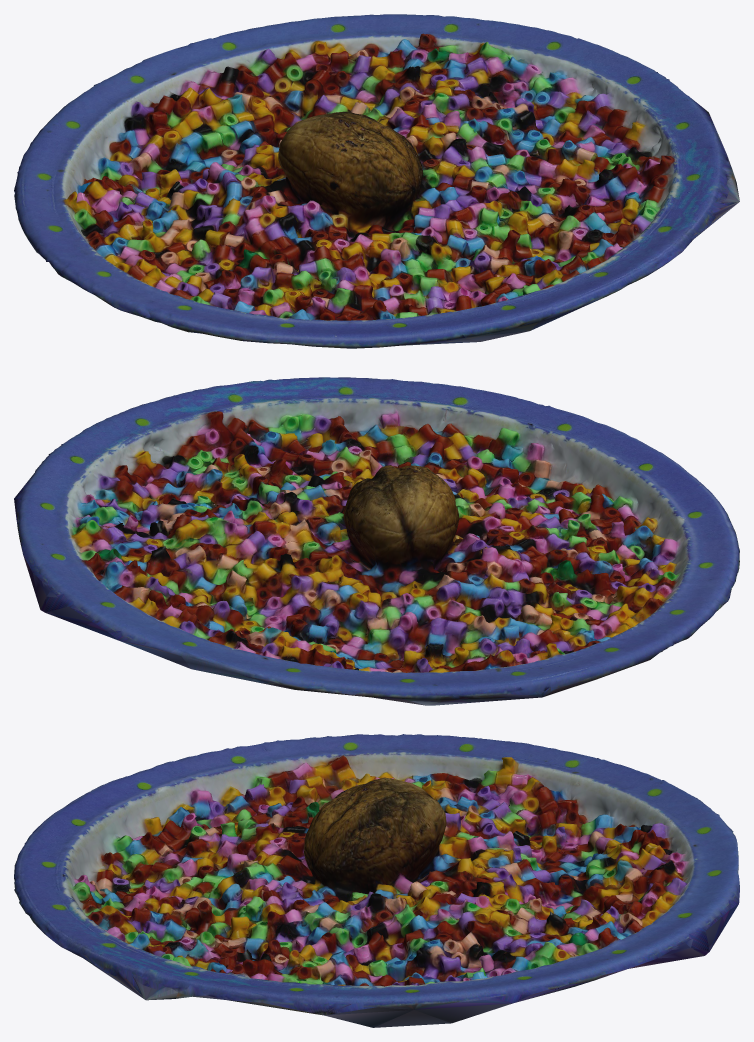
Rendered from plate.gltf.
The picture shows the model from 3 angles, top to bottom: view 1: azimuth 30°, elevation 25°; view 2: azimuth 150°, elevation 25°; view 3: azimuth 270°, elevation 25°; orthographic projection. The views are drawn at different scales.
Visible parts, largest first — view 1: Group_Global; view 2: Group_Global; view 3: Group_Global.
Boxes of the visible parts, left/top/right/bottom form: Group_Global: left=14, top=14, right=739, bottom=348; Group_Global: left=14, top=377, right=739, bottom=705; Group_Global: left=14, top=734, right=739, bottom=1027.
Size of the model in its own units: 0.1584 by 0.0289 by 0.1564.
Materials: 1 (1 with a texture image).
